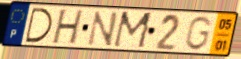2: (154, 13, 183, 52)
D: (24, 6, 55, 44)
G: (183, 14, 214, 52)
H: (50, 9, 86, 47)
M: (111, 10, 156, 50)
N: (85, 10, 120, 48)
